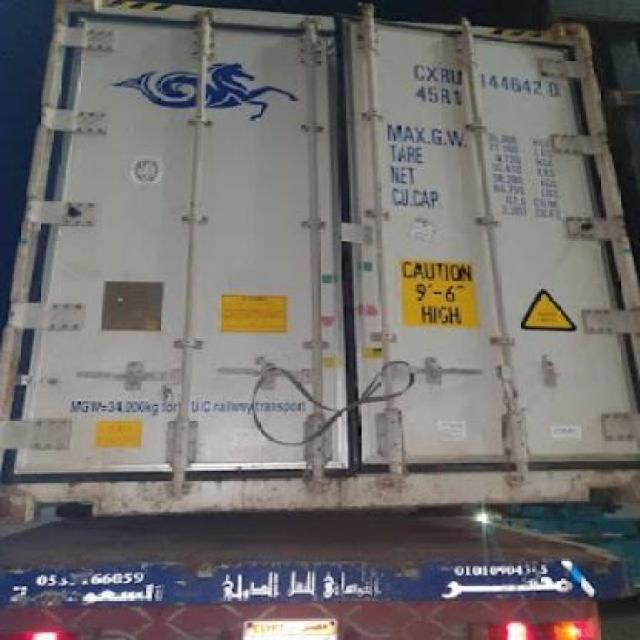ISO: (415, 85, 480, 106)
container_number: (408, 52, 570, 102)
